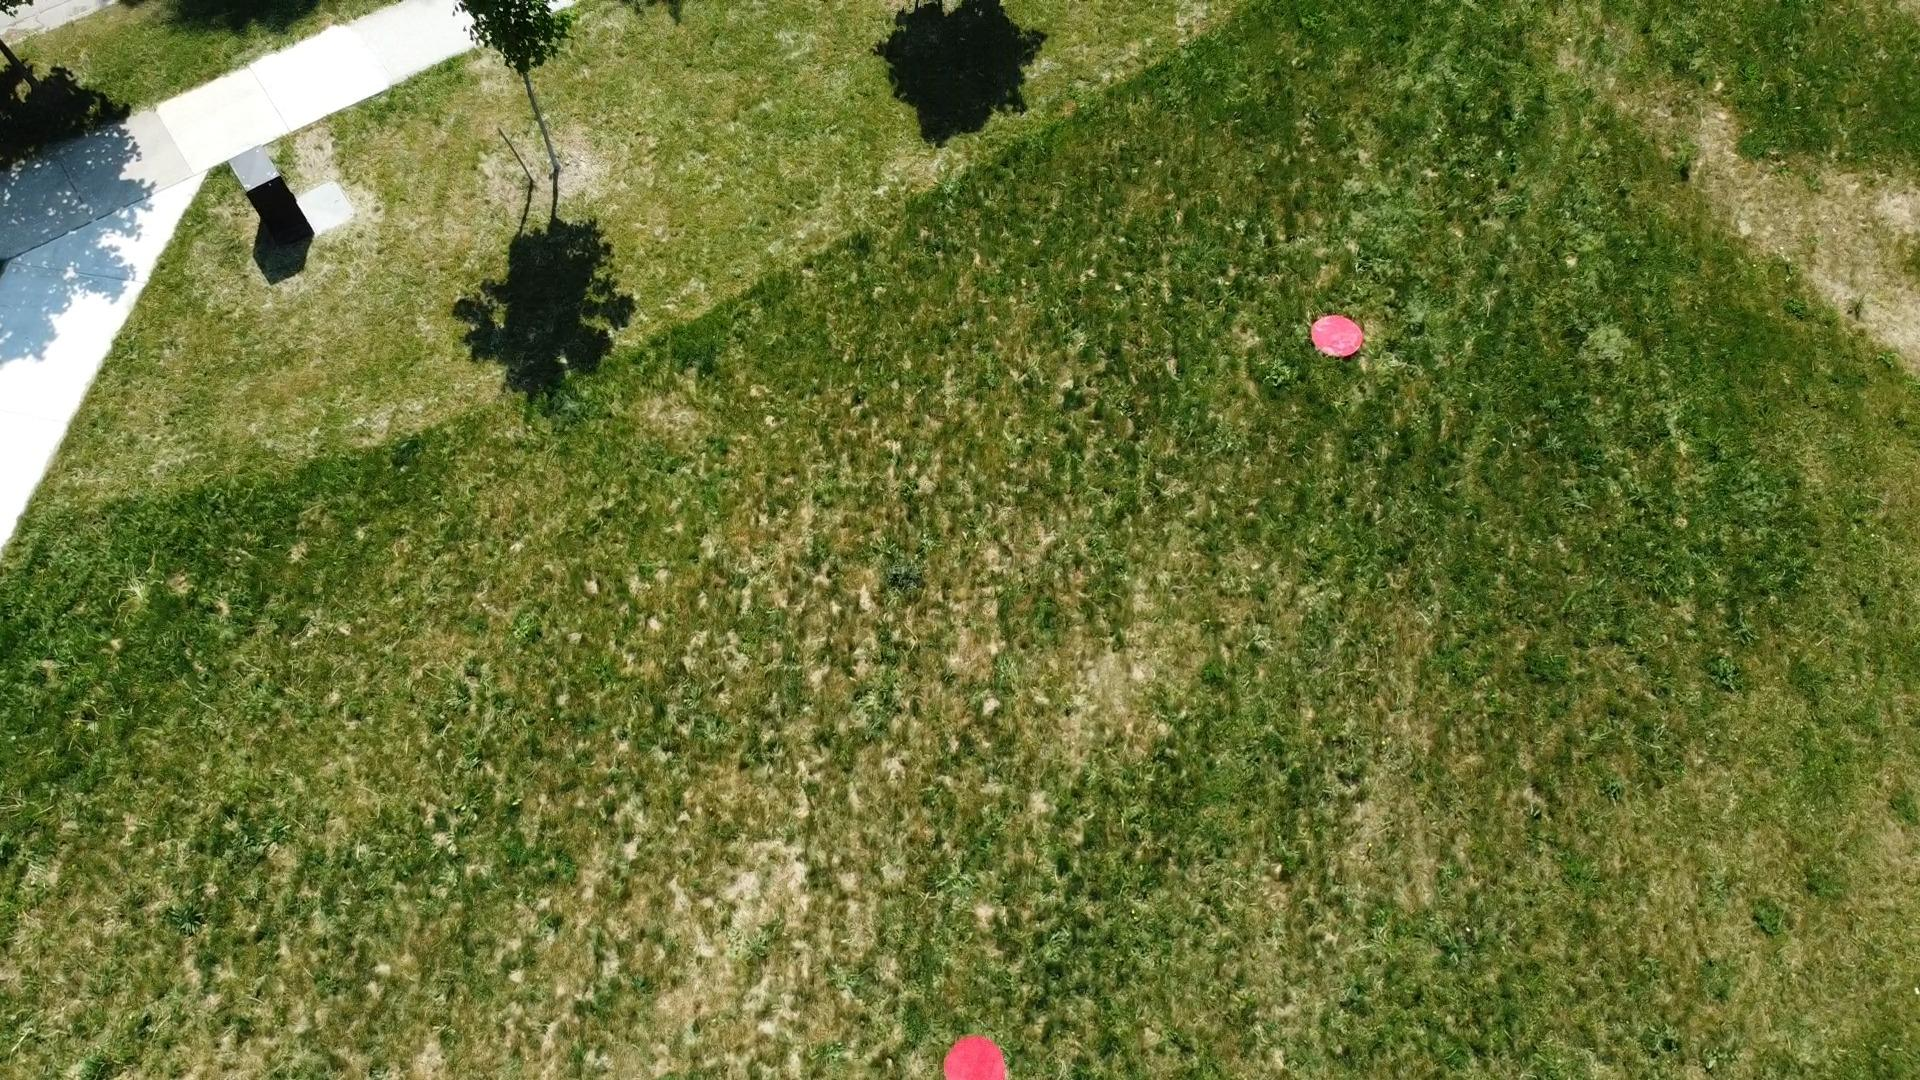Red: (942, 1033, 1009, 1080), (1308, 313, 1366, 359)
